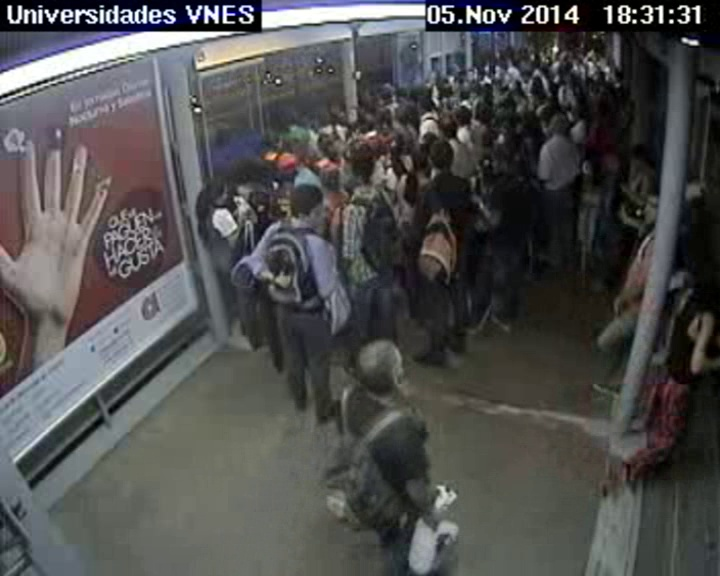person: (350, 337, 404, 394), (287, 182, 325, 224), (687, 265, 720, 303), (340, 150, 371, 183), (425, 141, 455, 172), (389, 121, 417, 153), (200, 174, 228, 205), (641, 188, 667, 221), (627, 142, 650, 169), (395, 95, 417, 121), (473, 101, 495, 124), (472, 157, 495, 179), (236, 160, 258, 183), (549, 111, 571, 133), (434, 114, 455, 137), (520, 115, 542, 136), (371, 132, 392, 154), (316, 126, 337, 148), (452, 105, 473, 126), (496, 95, 516, 117), (497, 157, 517, 179), (274, 156, 294, 177), (413, 95, 433, 115), (584, 147, 605, 166), (601, 151, 620, 172), (373, 106, 392, 125), (570, 104, 588, 123), (514, 95, 531, 115), (376, 84, 394, 102), (327, 142, 345, 160), (321, 107, 338, 125), (345, 107, 362, 123), (595, 102, 610, 118), (347, 124, 362, 138), (283, 111, 297, 126), (589, 73, 603, 87), (535, 91, 549, 104), (532, 75, 545, 88), (458, 87, 470, 101), (518, 56, 530, 69), (428, 69, 440, 82), (439, 84, 451, 97), (473, 64, 486, 76), (607, 68, 619, 79), (482, 82, 493, 94), (556, 49, 567, 60), (519, 71, 530, 82), (503, 46, 513, 56), (563, 62, 573, 72), (456, 70, 466, 80), (466, 69, 475, 80), (506, 57, 515, 66), (529, 53, 538, 62), (563, 78, 572, 87), (587, 48, 596, 57), (578, 49, 587, 58), (515, 82, 523, 92), (542, 48, 550, 57), (499, 85, 507, 94), (568, 50, 576, 58), (495, 63, 502, 72), (484, 56, 491, 63), (520, 43, 527, 49)
